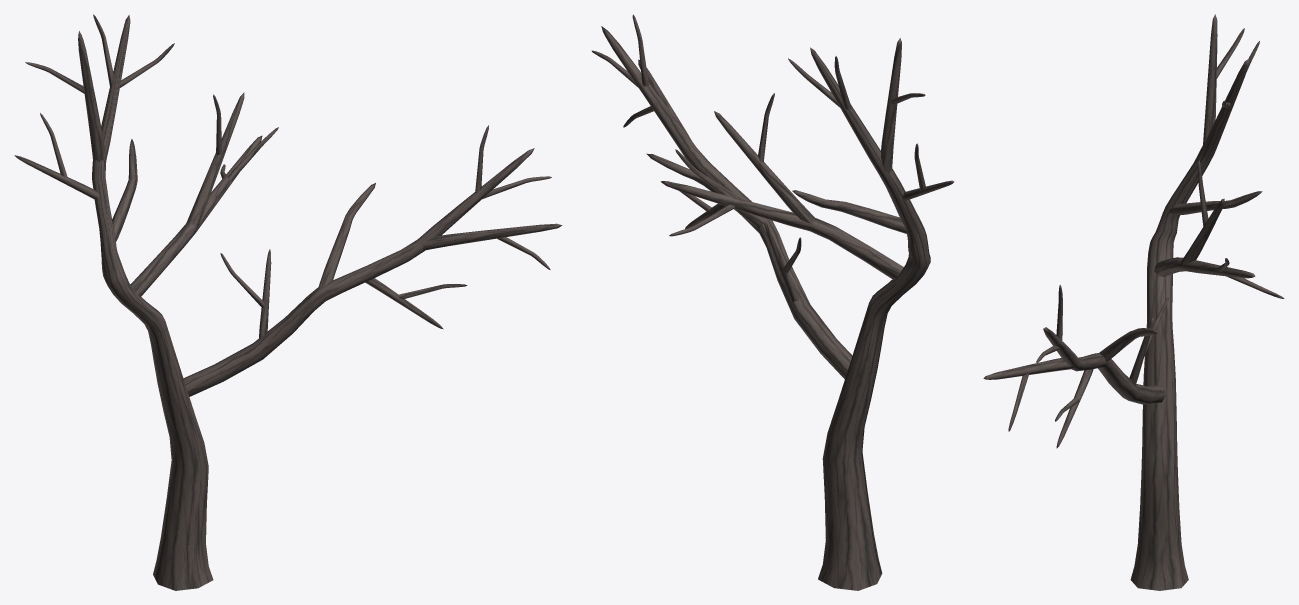
The model's file is DeadTree_6.glb.
3 views of the same model, side by side, from view 1: azimuth 30°, elevation 25°; view 2: azimuth 150°, elevation 25°; view 3: azimuth 270°, elevation 25° (orthographic). The views are drawn at different scales.
Size of the model in its own units: 5.41 by 6.41 by 3.3.
1 material, 1 textured.
